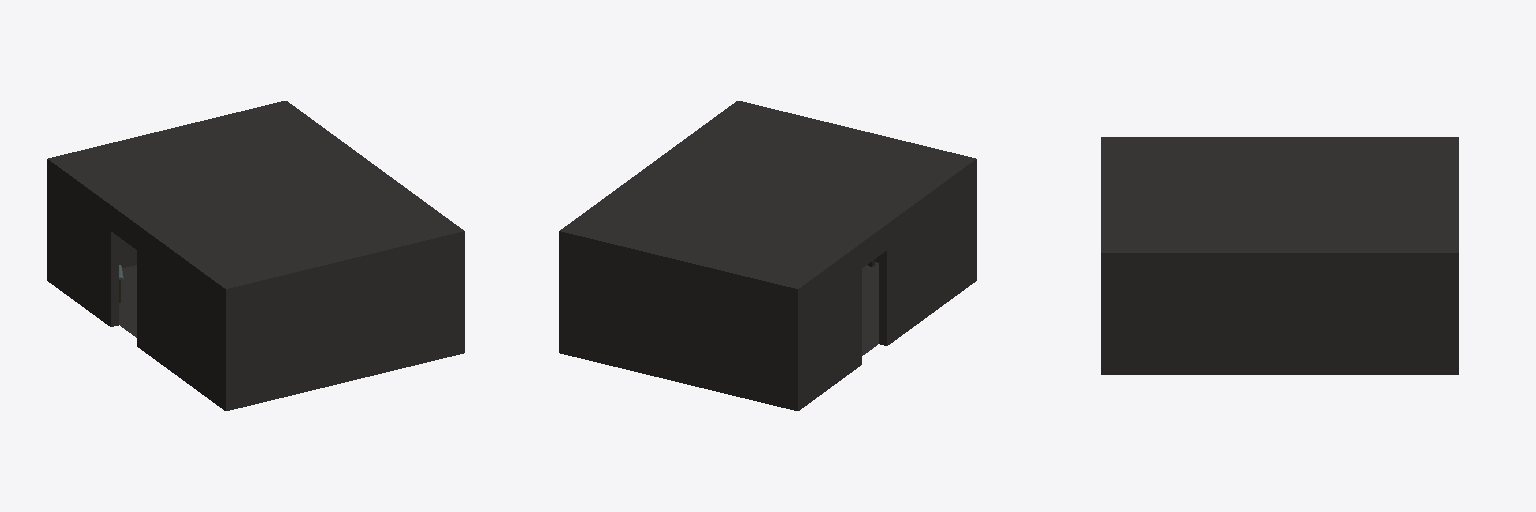
The model's file is studentroom_V1.obj.
The picture shows the model from 3 angles: view 1: azimuth 30°, elevation 25°; view 2: azimuth 150°, elevation 25°; view 3: azimuth 270°, elevation 25°; orthographic projection.
Visible parts, largest first — view 1: Room Studentroom1; view 2: Room Studentroom1; view 3: Room Studentroom1.
Part boxes in pixels (bbox=[...]): Room Studentroom1: bbox=[47, 101, 464, 410]; Room Studentroom1: bbox=[559, 101, 976, 410]; Room Studentroom1: bbox=[1101, 137, 1458, 374].
Bounding box in the file's own units: 543 × 265 × 702.